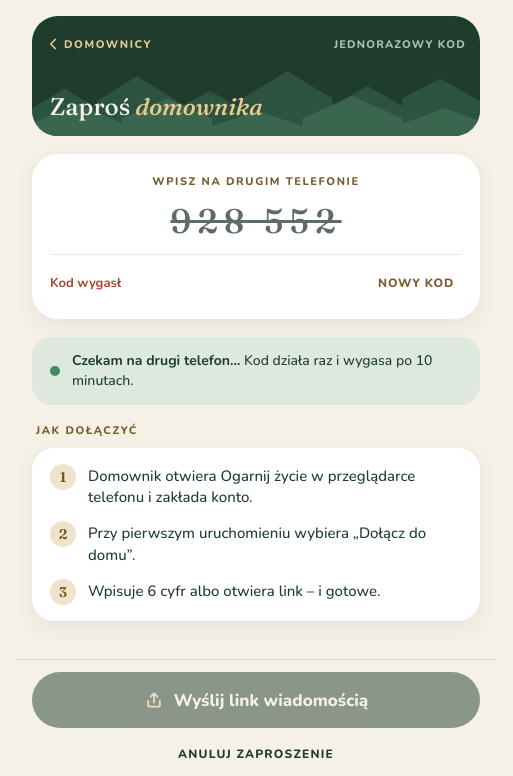
Test: Zaproś: po 10 minutach kod wygasa, „Nowy kod” daje kolejne 10 minut
Expected: the text "Kod wygasł" is shown, 50,274 -> 121,292
Click the button "NOWY KOD".
click(416, 283)  # box 370,265 -> 462,301
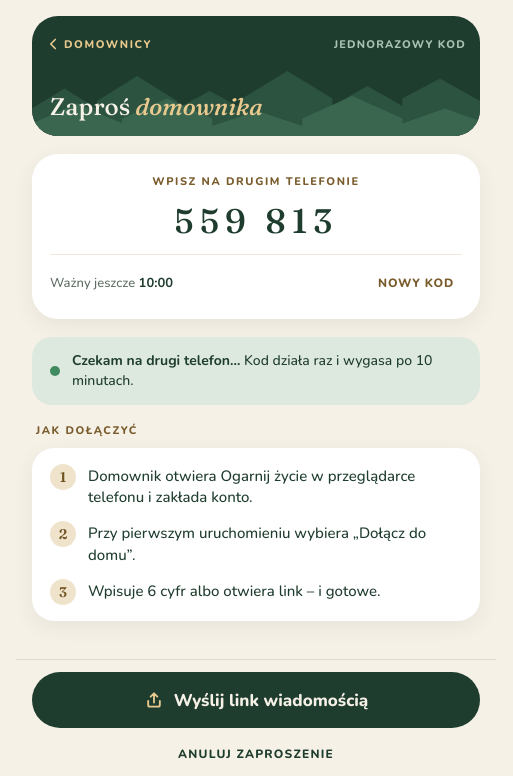
Expected: the text "10:00" is shown, 139,274 -> 173,292
